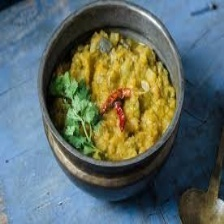sabzi: (46, 28, 177, 161)
